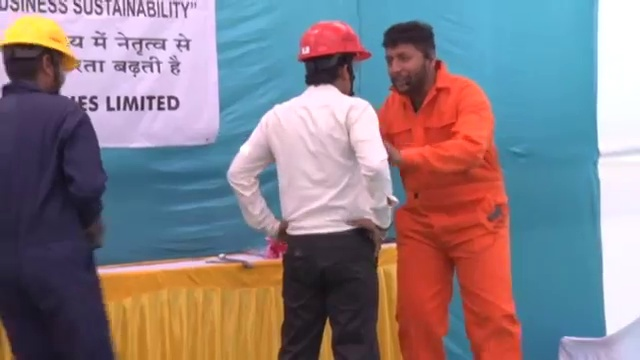helmet: (1, 12, 77, 70), (295, 16, 372, 60)
helmet_off: (383, 20, 437, 94)
helmet_on: (1, 12, 79, 97), (293, 15, 372, 97)
person: (230, 15, 395, 360), (376, 21, 524, 360), (1, 11, 116, 360)
